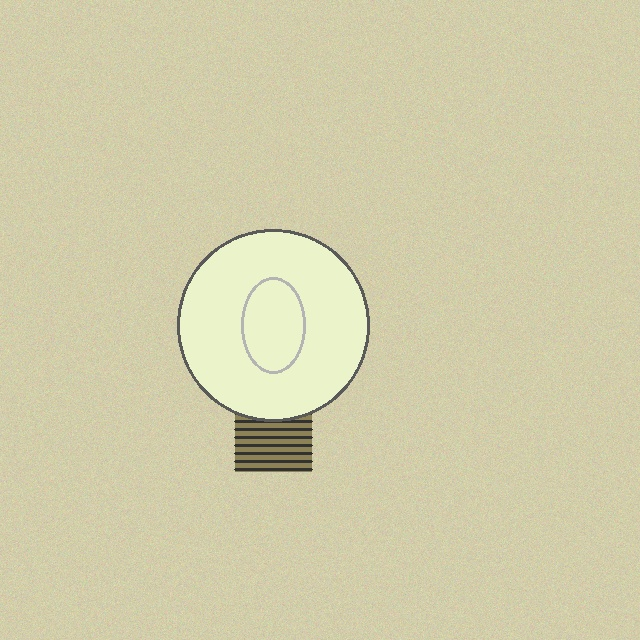bulb: (173, 225, 373, 476)
